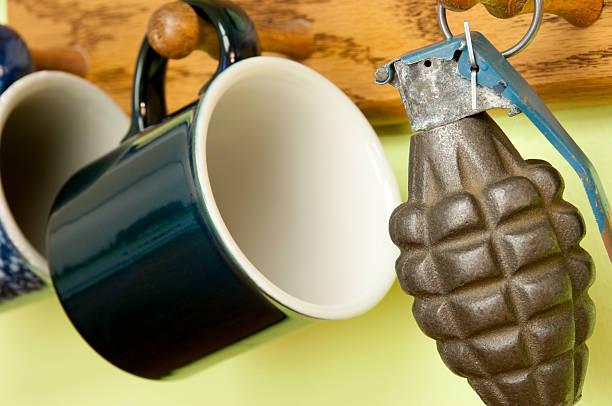e1: (366, 2, 610, 406)
